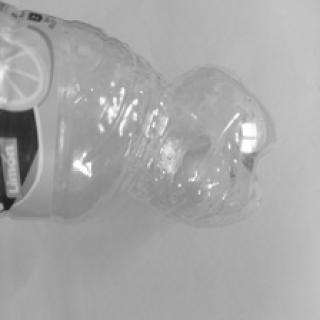plastic_bottles: (1, 6, 282, 219)
